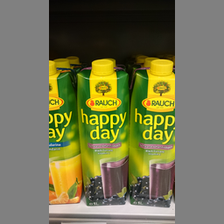juice: (77, 59, 131, 205), (128, 60, 174, 205), (48, 59, 81, 204)
